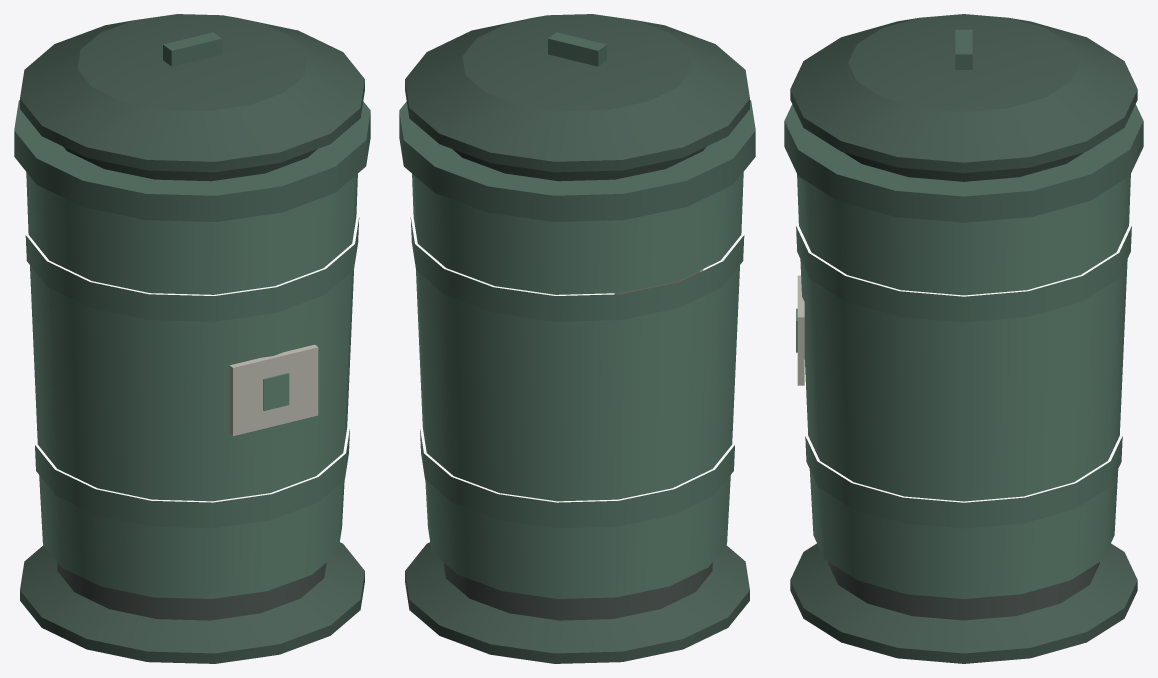
File: trash_can.glb
3 renders of one model, left to right at view 1: azimuth 30°, elevation 25°; view 2: azimuth 150°, elevation 25°; view 3: azimuth 270°, elevation 25°, orthographic.
Visible parts, largest first — view 1: TrashCan, TrashCanLid; view 2: TrashCan, TrashCanLid; view 3: TrashCan, TrashCanLid.
Boxes of the visible parts, bbox=[...] form: TrashCan: bbox=[14, 14, 370, 620]; TrashCanLid: bbox=[20, 542, 364, 663]; TrashCan: bbox=[399, 14, 755, 620]; TrashCanLid: bbox=[405, 542, 749, 663]; TrashCan: bbox=[784, 14, 1143, 620]; TrashCanLid: bbox=[790, 543, 1137, 663].
Size of the model in its own units: 0.62 by 1.05 by 0.62.
